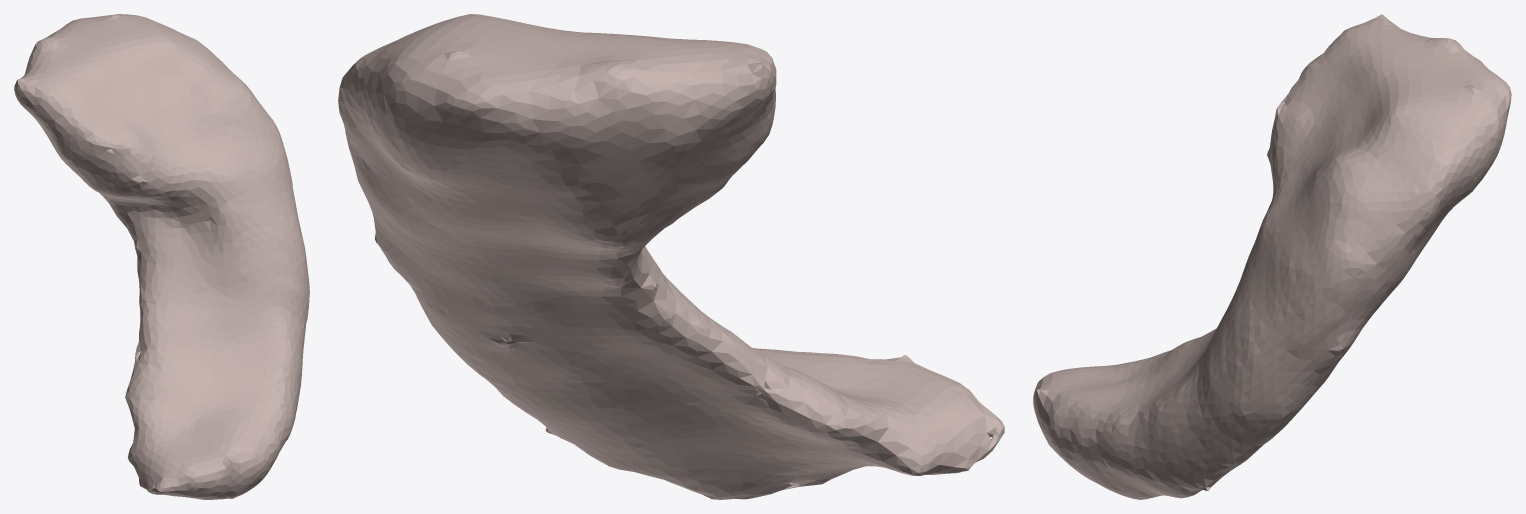
File: Right_Hippocampus.glb
The picture shows the model from 3 angles, left to right: view 1: azimuth 30°, elevation 25°; view 2: azimuth 150°, elevation 25°; view 3: azimuth 270°, elevation 25°; orthographic projection. The views are drawn at different scales.
Visible parts, largest first — view 1: world; view 2: world; view 3: world.
Part boxes in pixels (<box>): world: <box>14,14,309,499</box>; world: <box>338,14,1004,499</box>; world: <box>1033,14,1511,499</box>.
Size of the model in its own units: 25.64 by 35.62 by 36.72.
